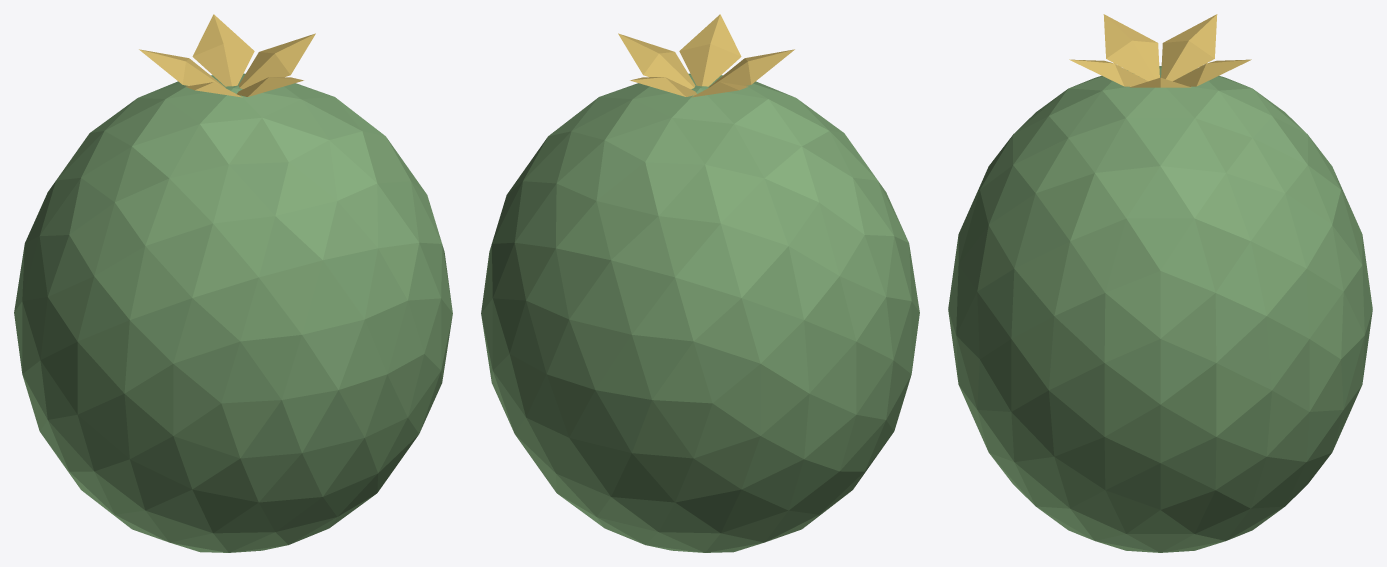
File: barrel_cactus_flower.glb
3 views of the same model, side by side, from view 1: azimuth 30°, elevation 25°; view 2: azimuth 150°, elevation 25°; view 3: azimuth 270°, elevation 25° (orthographic).
Visible parts, largest first — view 1: cactus_body, petal_1, petal_0, petal_2, petal_4; view 2: cactus_body, petal_4, petal_0, petal_3, petal_1; view 3: cactus_body, petal_2, petal_3, petal_1, petal_4.
Boxes of the visible parts, box(x1,y1,x2,y2) form: cactus_body: box(14, 73, 452, 552); petal_1: box(192, 14, 254, 86); petal_0: box(238, 33, 315, 89); petal_2: box(139, 49, 225, 87); petal_4: box(237, 77, 303, 96); cactus_body: box(481, 73, 919, 552); petal_4: box(679, 14, 741, 86); petal_0: box(618, 33, 695, 89); petal_3: box(708, 49, 794, 87); petal_1: box(630, 77, 696, 96); cactus_body: box(948, 66, 1372, 552); petal_2: box(1161, 14, 1217, 81); petal_3: box(1103, 14, 1159, 81); petal_1: box(1173, 59, 1251, 86); petal_4: box(1069, 59, 1147, 86).
Size of the model in its own units: 0.7 by 0.84 by 0.66.
